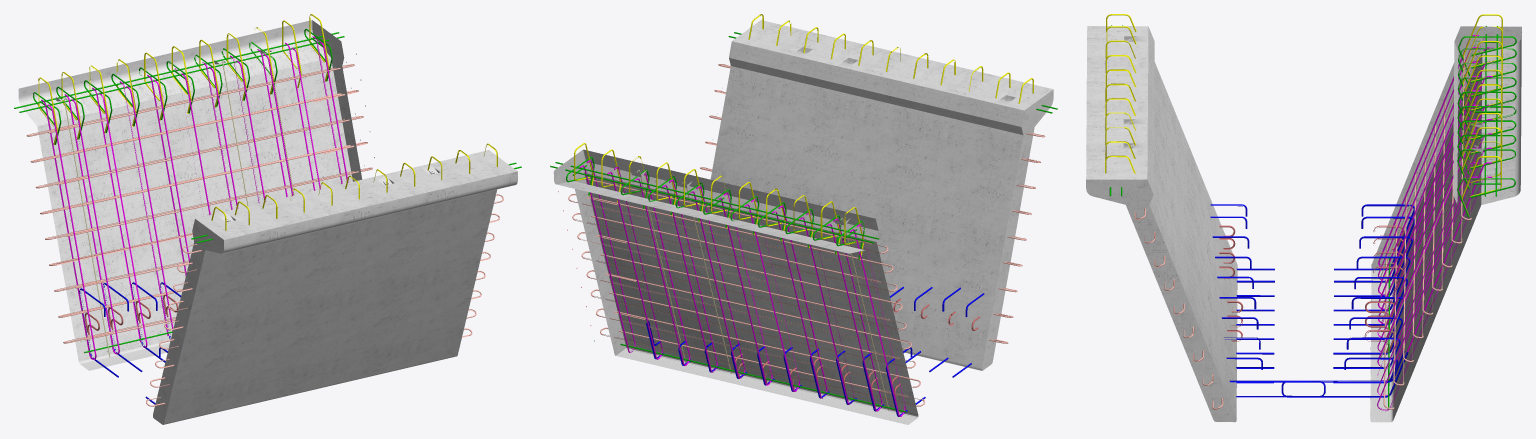
The model's file is Nodualr_jweb1.glb.
3 renders of one model, left to right at view 1: azimuth 30°, elevation 25°; view 2: azimuth 150°, elevation 25°; view 3: azimuth 270°, elevation 25°, orthographic. The views are drawn at different scales.
Parts seen in each view (by area): view 1: Node; view 2: Node; view 3: Node.
Part boxes in pixels (bbox=[...]): Node: bbox=[14, 14, 521, 424]; Node: bbox=[550, 14, 1057, 424]; Node: bbox=[1086, 14, 1521, 422].
Size of the model in its own units: 3.63 by 2.6 by 3.91.
10 materials, 1 textured.
